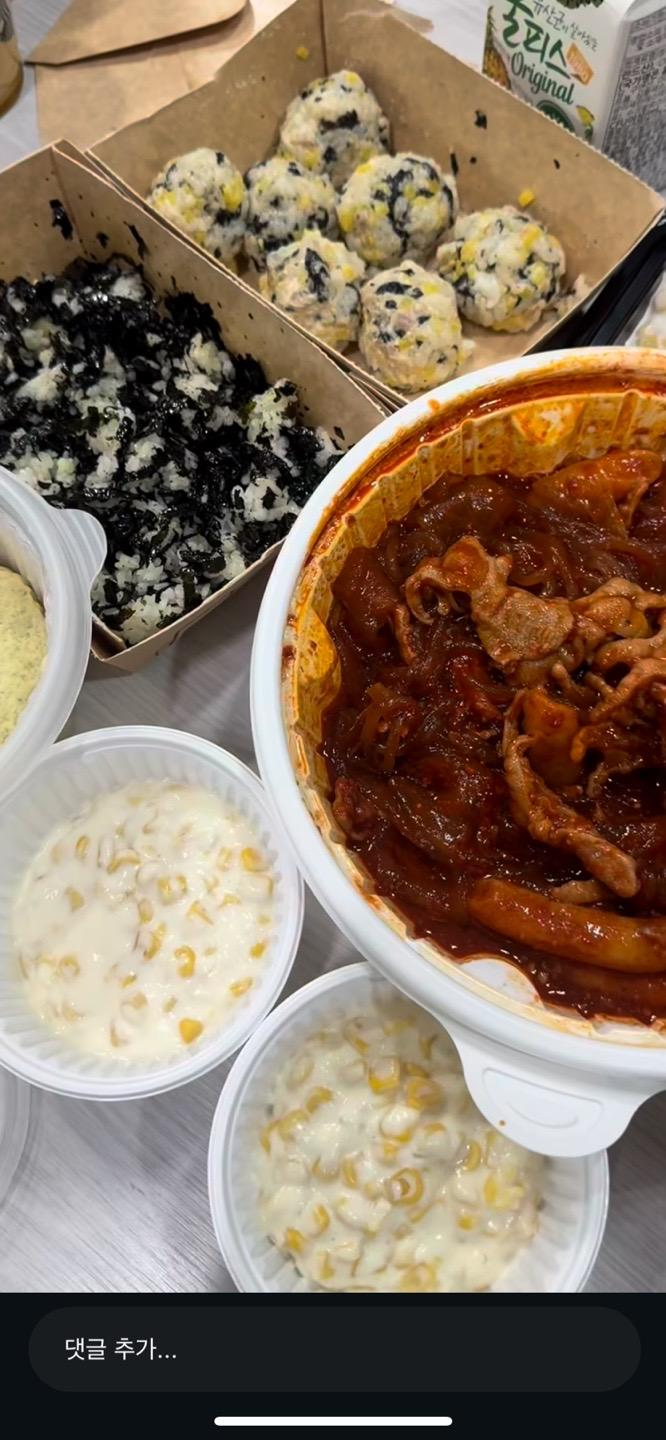Lunch Box: (251, 348, 665, 1157), (93, 0, 660, 400), (0, 147, 380, 673), (209, 966, 607, 1293), (0, 727, 302, 1100)
cup: (0, 466, 106, 798)
